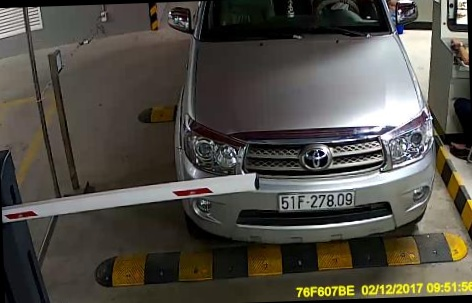plate: (276, 180, 357, 217)
